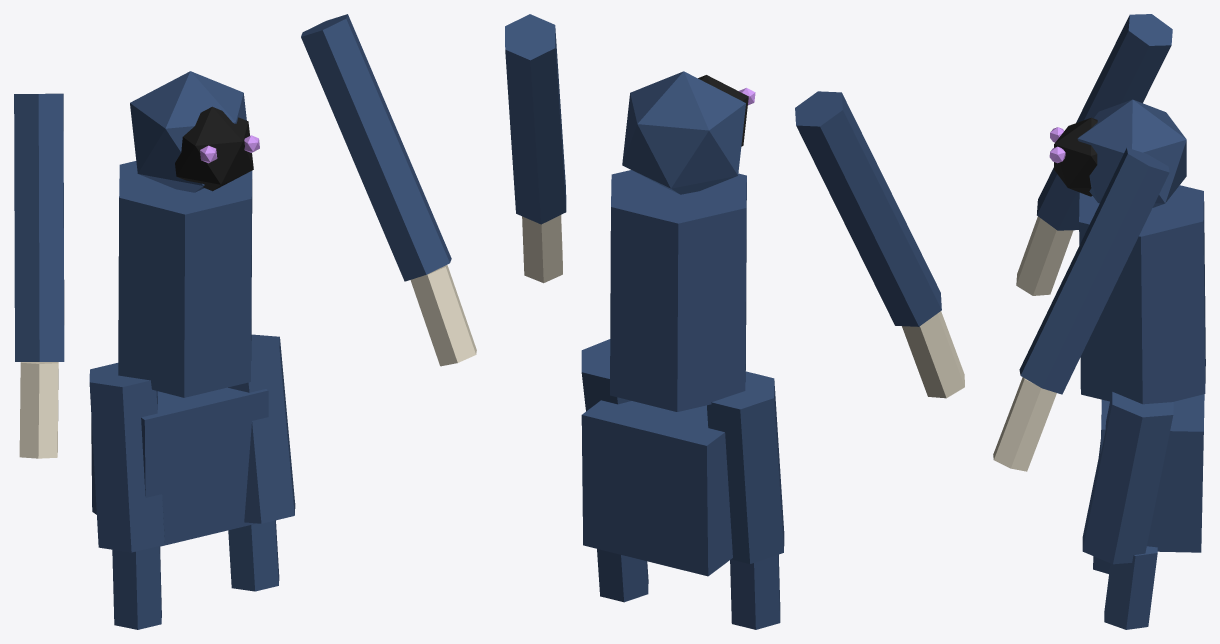
File: npcpose_wraith_idle_10.glb
The picture shows the model from 3 angles, left to right: view 1: azimuth 30°, elevation 25°; view 2: azimuth 150°, elevation 25°; view 3: azimuth 270°, elevation 25°; orthographic projection. The views are drawn at different scales.
Parts seen in each view (by area): view 1: npcpose; view 2: npcpose; view 3: npcpose.
Boxes of the visible parts, x1,y1,x2,y2 form: npcpose: [14, 14, 476, 629]; npcpose: [505, 14, 964, 629]; npcpose: [993, 14, 1205, 629].
Bounding box in the file's own units: 0.9384 × 1.1 × 0.4147.
